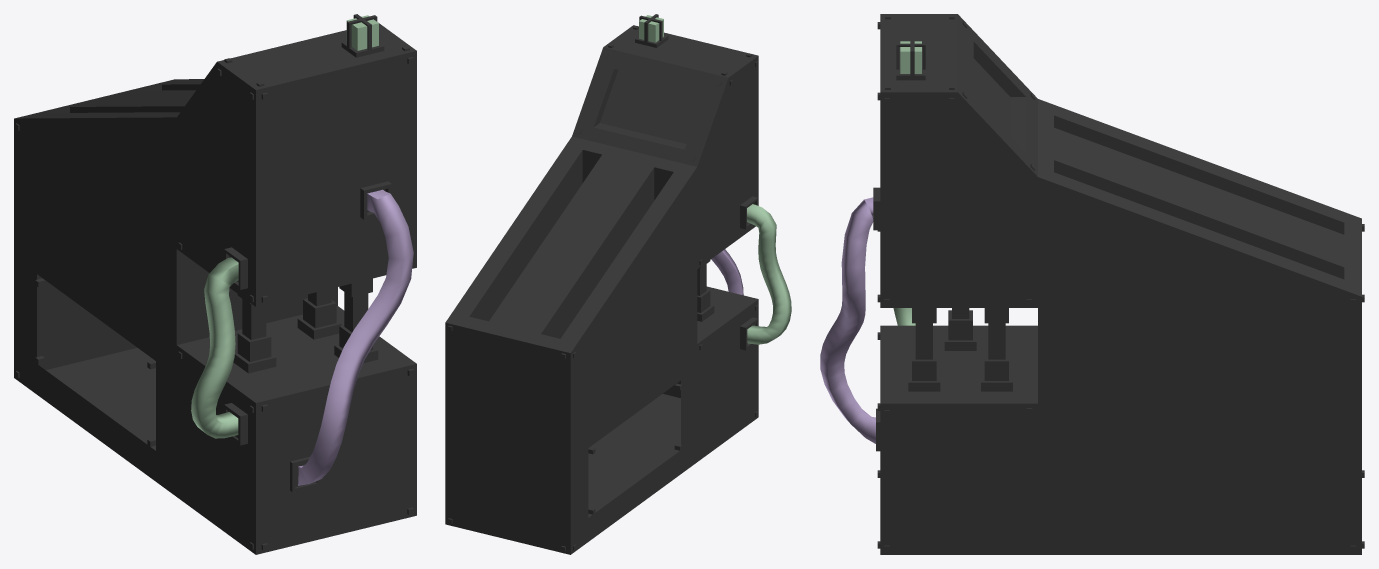
The model's file is lift_lever_geo.obj.
3 views of the same model, side by side, from view 1: azimuth 30°, elevation 25°; view 2: azimuth 150°, elevation 25°; view 3: azimuth 270°, elevation 25° (orthographic). The views are drawn at different scales.
Visible parts, largest first — view 1: Object004, Object001, Object003, Object002, Object006, Object005; view 2: Object004, Object002, Object001, Object003, Object006, Object005; view 3: Object004, Object001, Object003, Object006.
Part boxes in pixels (x1,y1,x2,y2): Object004: (14,22,416,554); Object001: (298,189,413,485); Object003: (233,278,378,373); Object002: (191,257,238,438); Object006: (341,14,384,57); Object005: (346,15,378,50); Object004: (445,25,758,554); Object002: (747,204,791,344); Object001: (711,249,743,295); Object003: (697,260,714,321); Object006: (635,14,668,47); Object005: (639,15,663,42); Object004: (873,14,1364,554); Object001: (820,197,875,443); Object003: (908,308,1012,391); Object006: (896,37,925,80).
Bounding box in the file's own units: 0.4461 × 0.994 × 0.9974.
